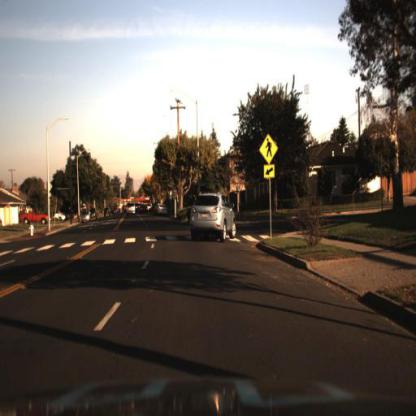car: (189, 187, 238, 242), (19, 209, 50, 227), (52, 209, 70, 224), (125, 200, 139, 218), (156, 203, 169, 218), (81, 210, 93, 225)
